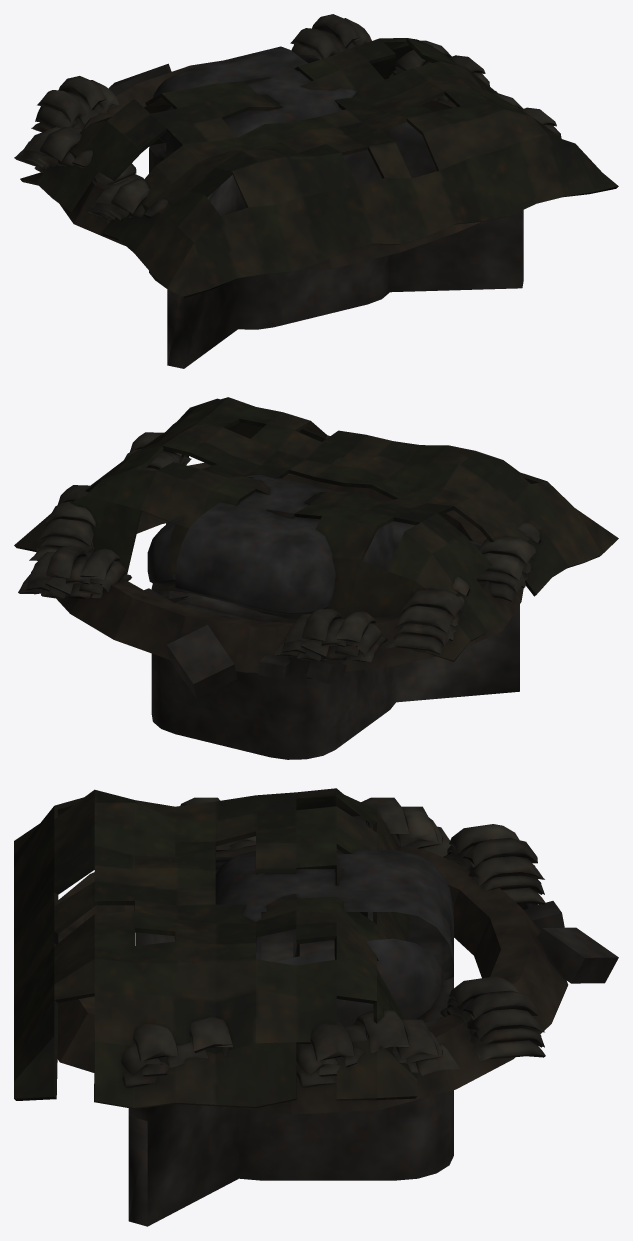
The model's file is hbox-wreck.glb.
3 views of the same model, one above another, from view 1: azimuth 30°, elevation 25°; view 2: azimuth 150°, elevation 25°; view 3: azimuth 270°, elevation 25° (orthographic). The views are drawn at different scales.
Visible parts, largest first — view 1: hull; view 2: hull; view 3: hull.
Part boxes in pixels (left/top/right/bottom): hull: left=14, top=14, right=618, bottom=368; hull: left=14, top=397, right=618, bottom=759; hull: left=14, top=788, right=618, bottom=1226.
Size of the model in its own units: 7.4 by 3.43 by 7.2.
1 material, 1 textured.
